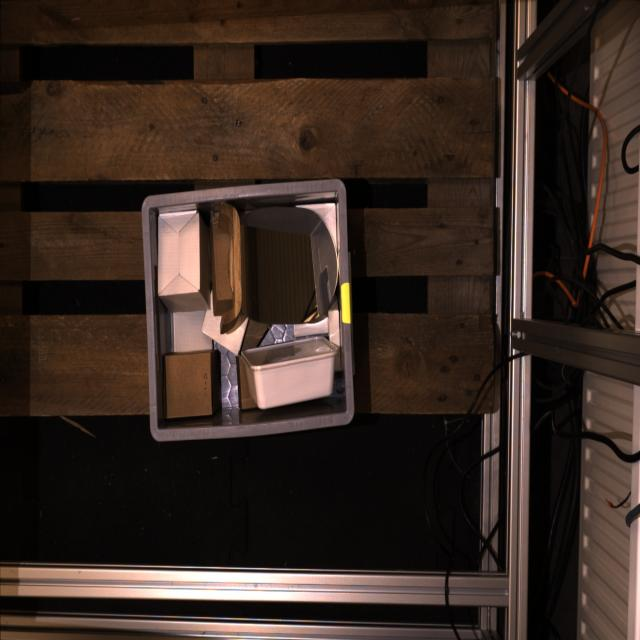CardboardBox: (158, 206, 209, 313), (164, 349, 221, 418), (202, 290, 248, 356), (210, 212, 234, 316), (298, 204, 338, 250), (171, 310, 212, 351), (237, 357, 257, 409), (328, 300, 341, 371), (241, 318, 268, 351), (293, 317, 329, 337)
Mirror: (219, 202, 337, 332)
PlasticContainer: (241, 338, 338, 409)
